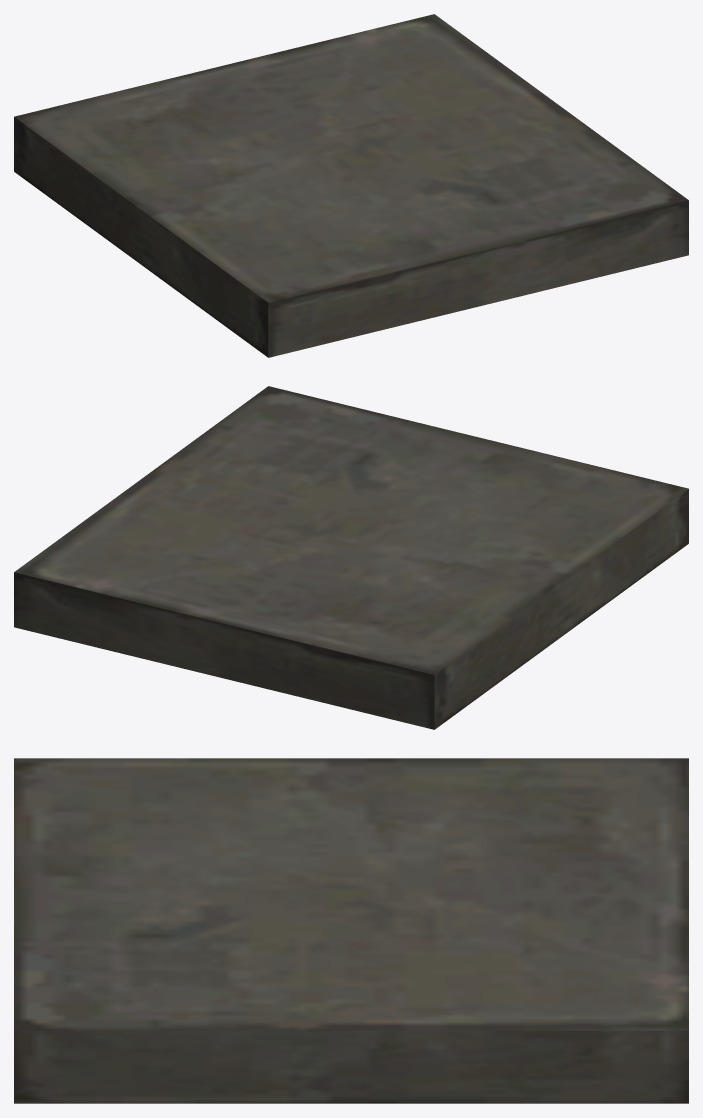
Rendered from environment_stone_dizhuan_001_b.FBX.
3 views of the same model, one above another, from view 1: azimuth 30°, elevation 25°; view 2: azimuth 150°, elevation 25°; view 3: azimuth 270°, elevation 25° (orthographic). The views are drawn at different scales.
Parts seen in each view (by area): view 1: environment_stone_dizhuan_001_b; view 2: environment_stone_dizhuan_001_b; view 3: environment_stone_dizhuan_001_b.
Boxes of the visible parts, box(x1,y1,x2,y2) form: environment_stone_dizhuan_001_b: box(14, 14, 688, 357); environment_stone_dizhuan_001_b: box(14, 386, 688, 729); environment_stone_dizhuan_001_b: box(14, 758, 688, 1103).
Bounding box in the file's own units: 80.92 × 10.11 × 84.8.
